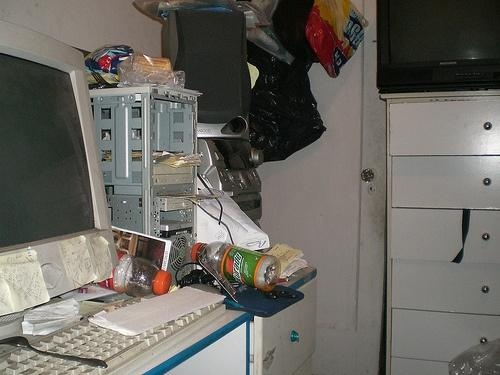bottle: (190, 241, 283, 294), (107, 245, 170, 298)
tvmonitor: (3, 20, 121, 312), (377, 2, 500, 89)
